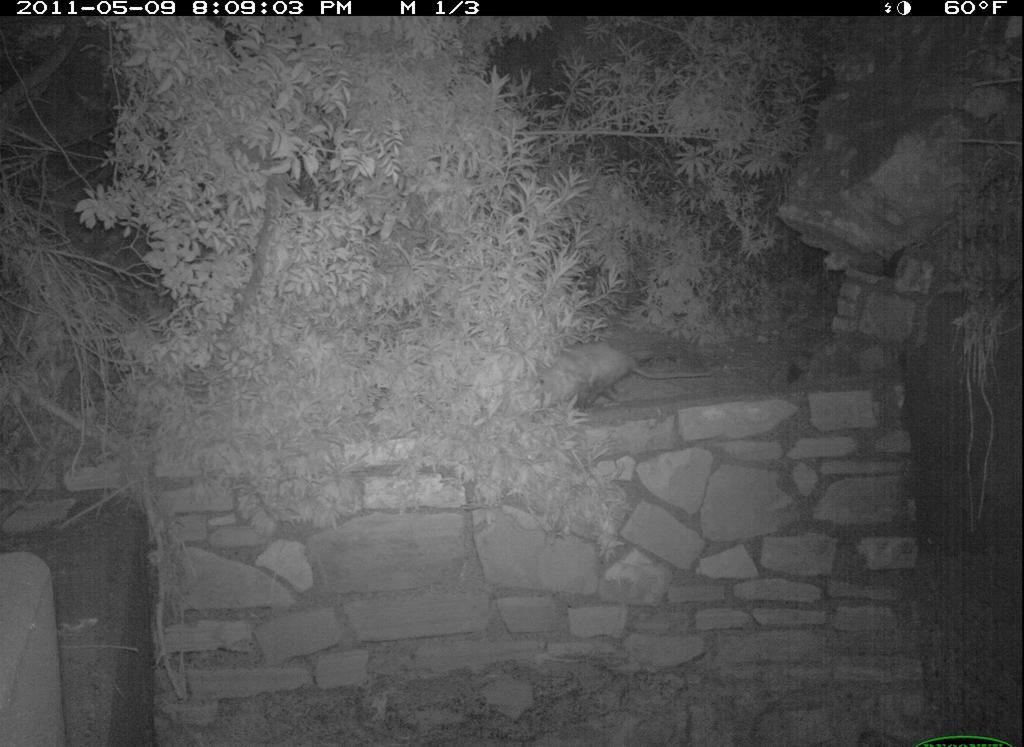opossum: (525, 338, 720, 422)
